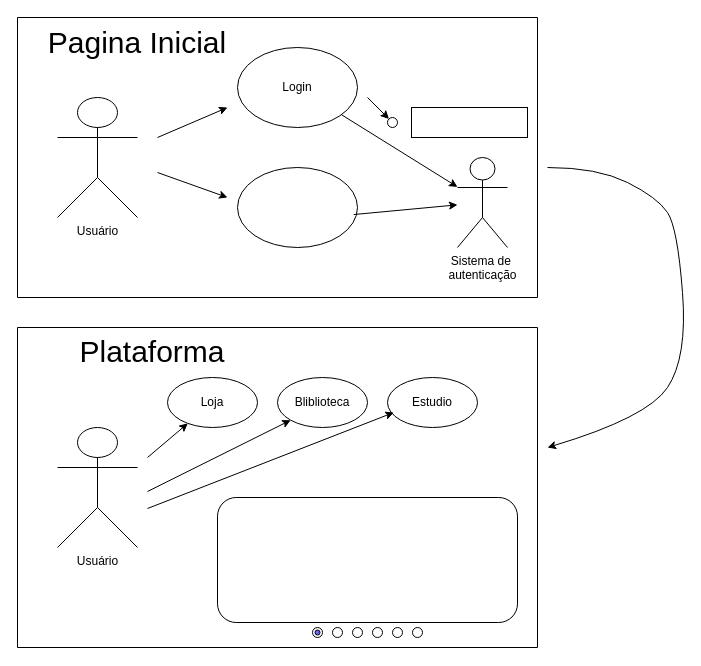
This 701x666 diagram has some shape labels left out. The shapes that lost their labels are listed below. From the top down, each one's box as (x1, y1, x2, y2) in pixels, then its label:
(410, 106, 528, 138): Termos de Serviços
(236, 166, 358, 248): Cadastrar
(216, 496, 518, 622): *JOGOS EM PROMOÇÕES*
